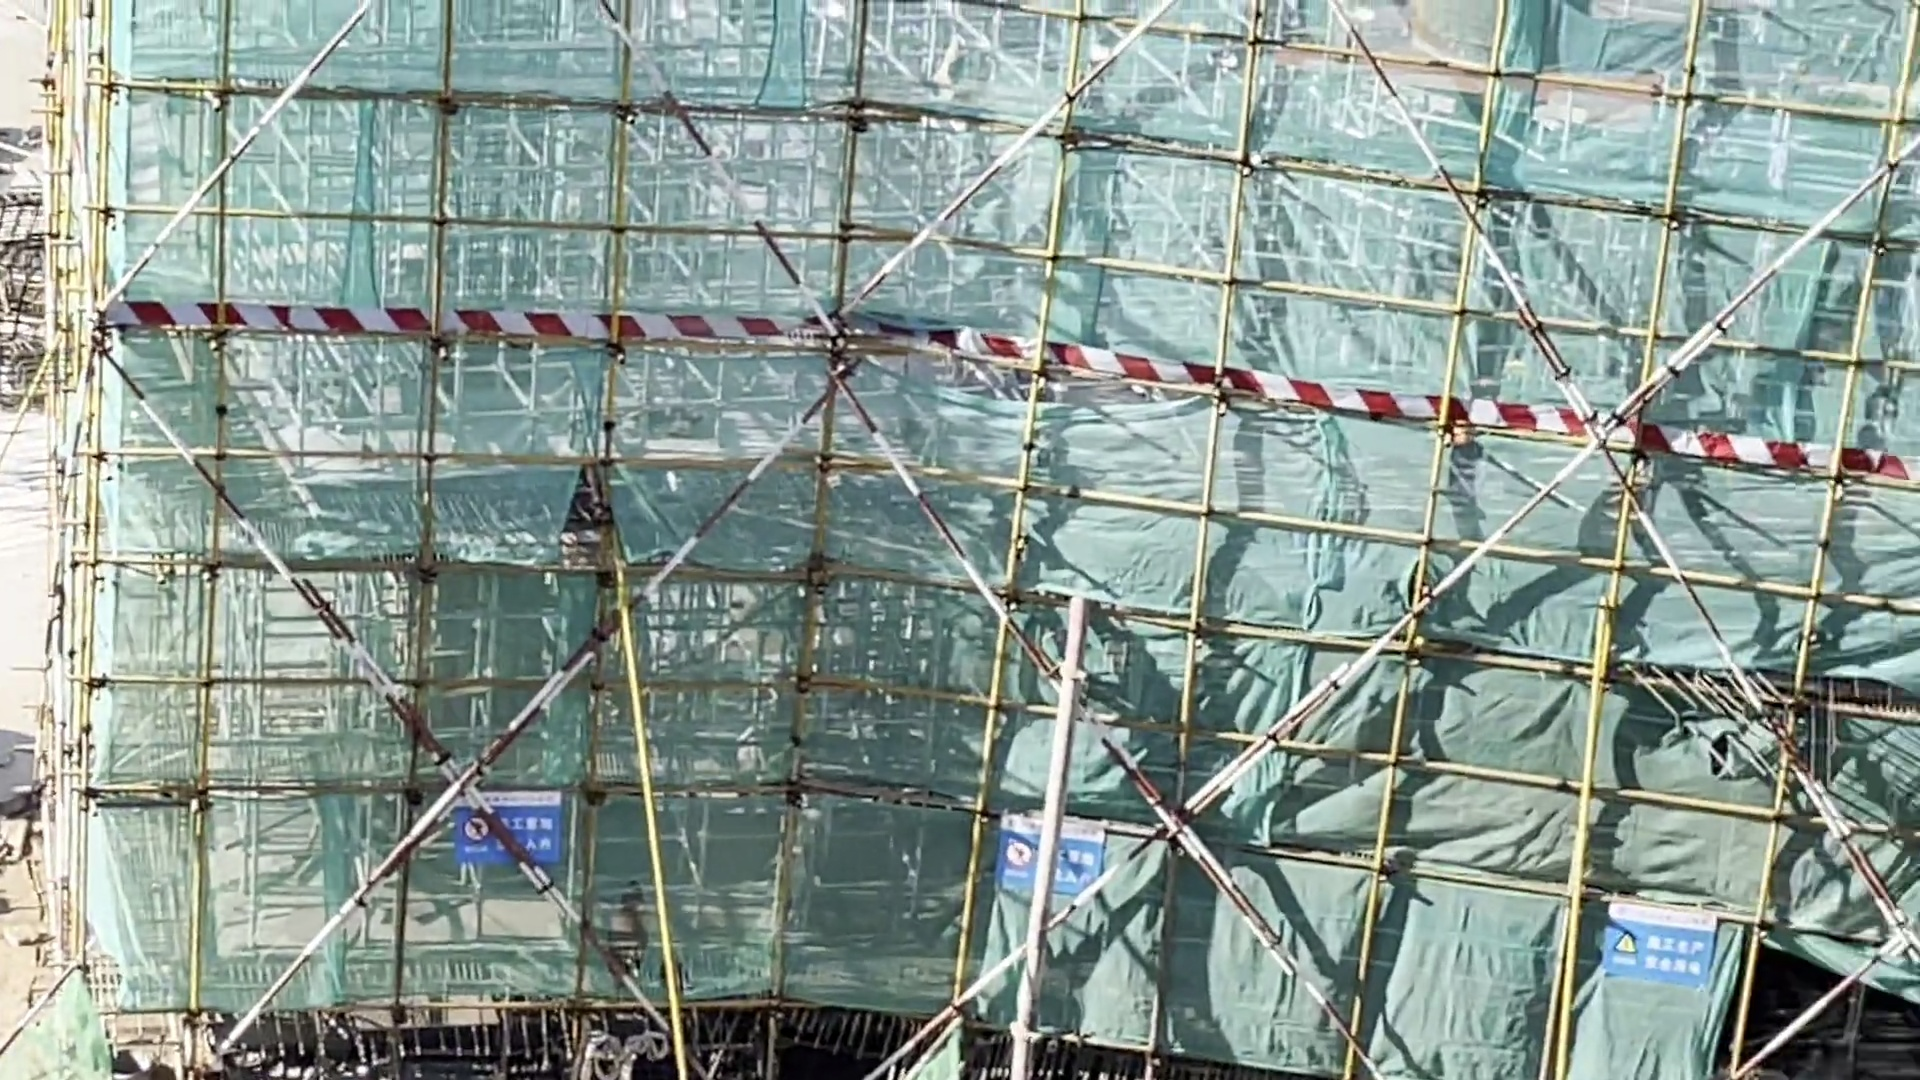slogan: (1592, 872, 1733, 1009), (992, 787, 1118, 910), (443, 777, 578, 882)
